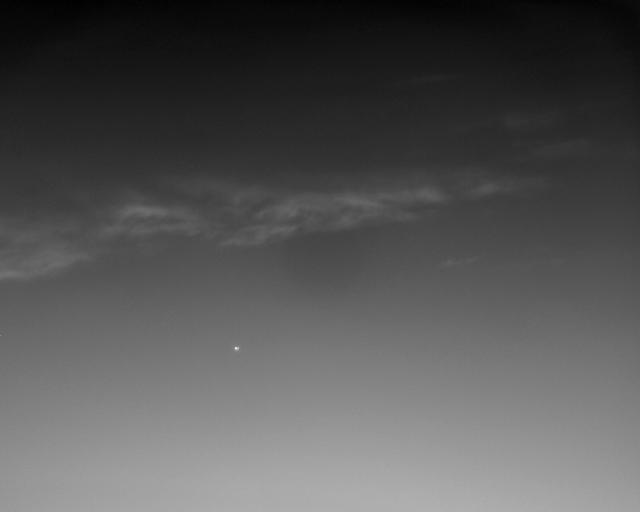Target: (235, 347, 241, 352)
